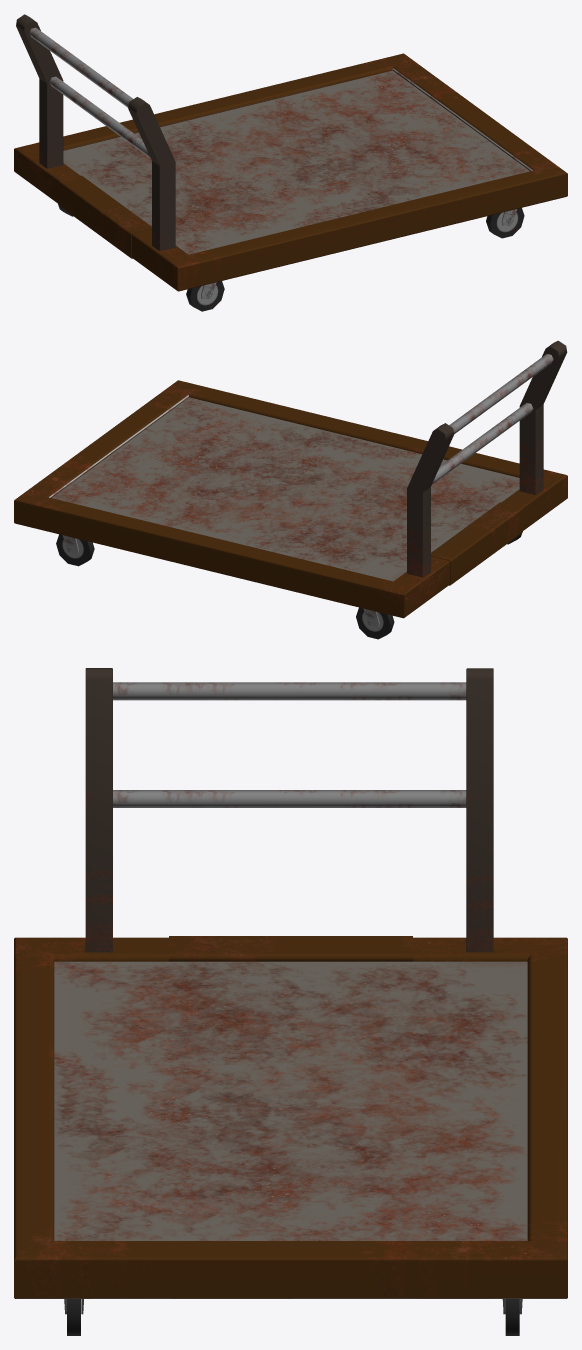
File: trolley_geo.fbx
The picture shows the model from 3 angles, top to bottom: view 1: azimuth 30°, elevation 25°; view 2: azimuth 150°, elevation 25°; view 3: azimuth 270°, elevation 25°; orthographic projection. The views are drawn at different scales.
Parts seen in each view (by area): view 1: Trolley; view 2: Trolley; view 3: Trolley.
Boxes of the visible parts, <box> form: Trolley: <box>14,14,567,311</box>; Trolley: <box>14,340,567,639</box>; Trolley: <box>14,668,567,1335</box>.
Bounding box in the file's own units: 579 × 293 × 400.
Materials: 1 (1 with a texture image).
